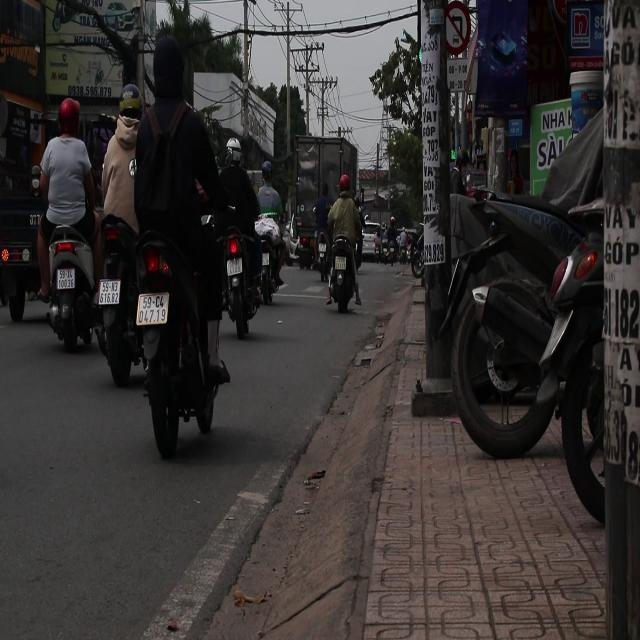motorbike: (128, 225, 226, 453), (95, 218, 146, 379), (43, 224, 98, 357), (213, 222, 266, 342), (327, 238, 359, 312), (409, 244, 426, 279)
